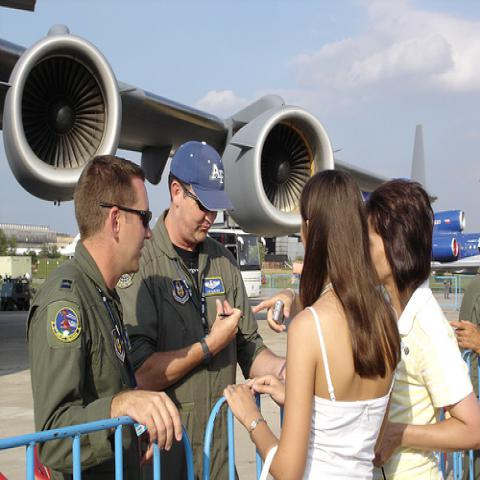bus: (208, 229, 266, 299)
